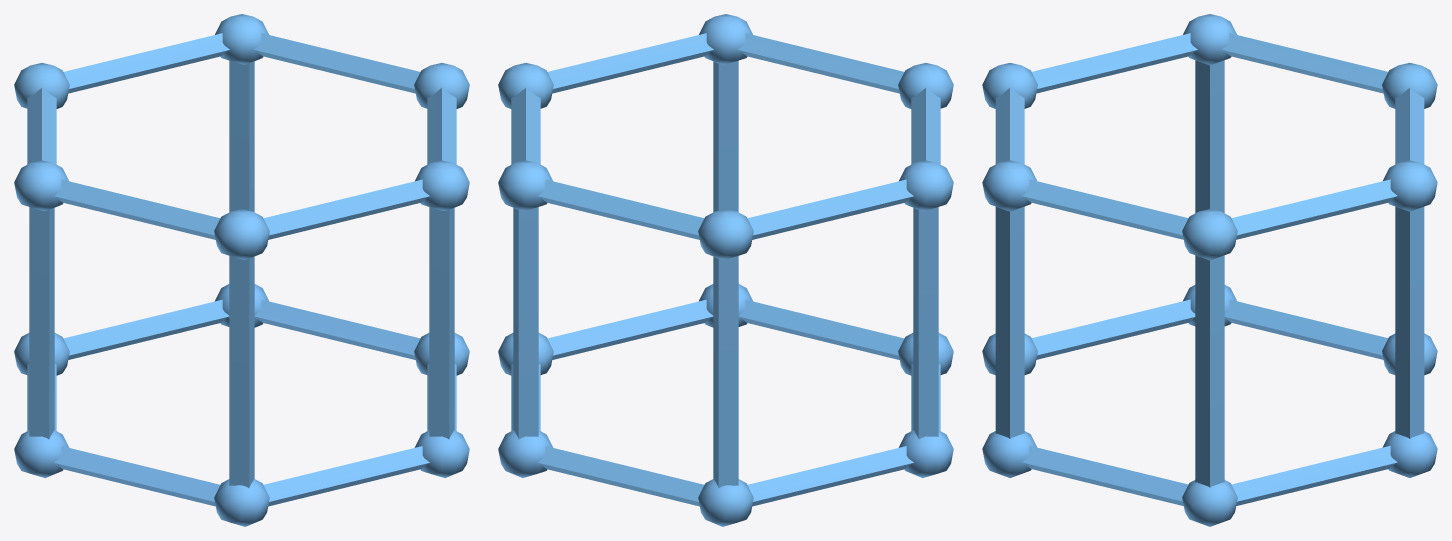
The model's file is tile_select_yes.FBX.
3 renders of one model, left to right at view 1: azimuth 30°, elevation 25°; view 2: azimuth 150°, elevation 25°; view 3: azimuth 270°, elevation 25°, orthographic.
Parts seen in each view (by area): view 1: Cylinder001; view 2: Cylinder001; view 3: Cylinder001.
Part boxes in pixels (bbox=[...]): Cylinder001: bbox=[14, 14, 469, 526]; Cylinder001: bbox=[498, 14, 953, 526]; Cylinder001: bbox=[982, 14, 1437, 526].
Bounding box in the file's own units: 28.33 × 24.96 × 18.79.
Materials: 1 (1 with a texture image).
